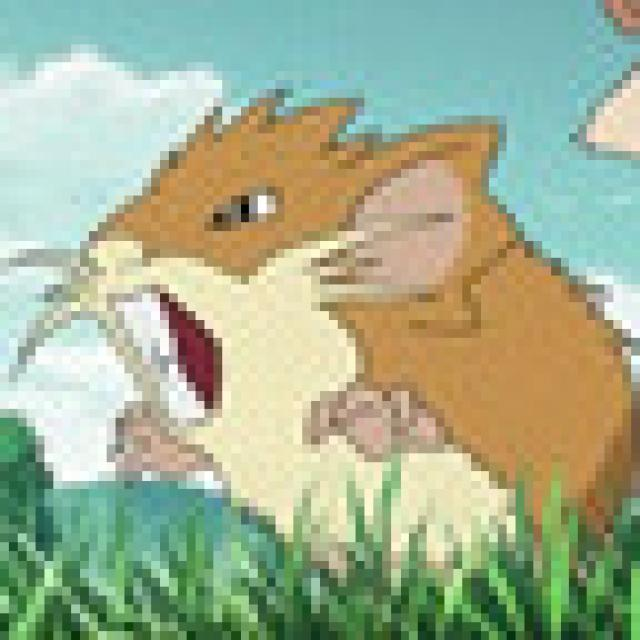Raticate: (61, 93, 594, 547)
